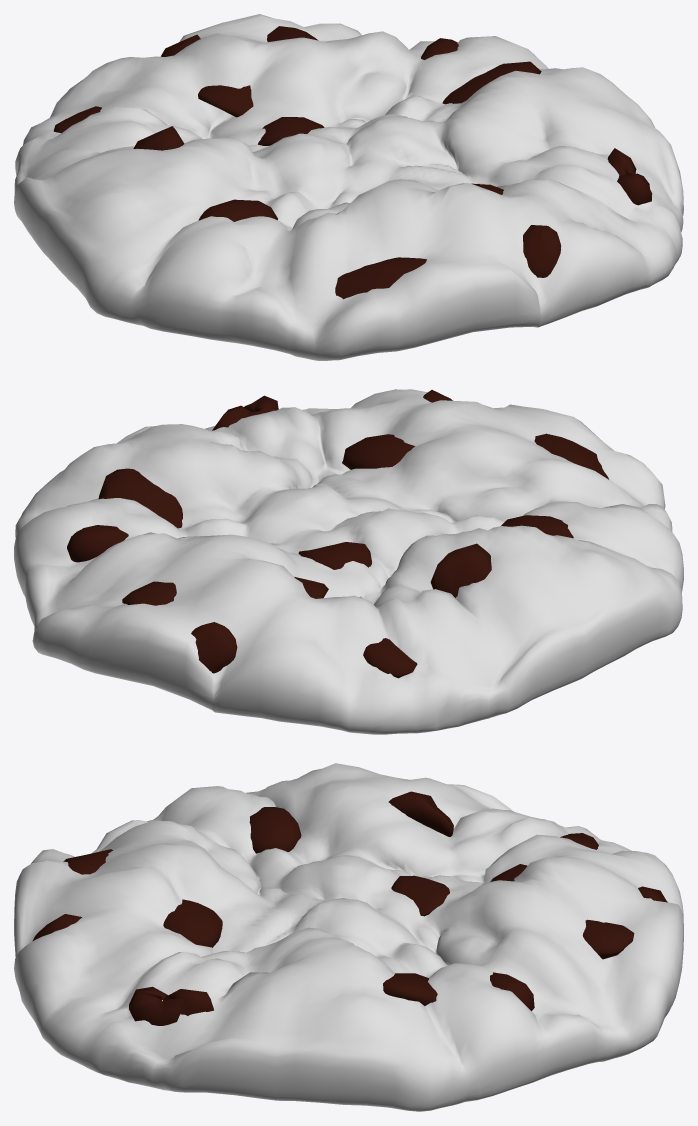
File: cookie.gltf
3 views of the same model, one above another, from view 1: azimuth 30°, elevation 25°; view 2: azimuth 150°, elevation 25°; view 3: azimuth 270°, elevation 25° (orthographic).
Parts seen in each view (by area): view 1: Cookie, chip.003, chip.009, chip.010, chip.011, chip.001, chip.006, chip.005, chip.013; view 2: Cookie, chip.001, chip.013, chip.007, chip.004, chip.008, chip.002, chip.005, chip.003, chip.012, chip.010, chip.006; view 3: Cookie, chip.010, chip.006, chip.007, chip.013, chip.005, chip.012, chip.001, chip.008, chip.003.
Part boxes in pixels (bbox=[...]): Cookie: bbox=[14, 14, 683, 360]; chip.003: bbox=[335, 257, 426, 299]; chip.009: bbox=[523, 225, 561, 277]; chip.010: bbox=[607, 148, 652, 205]; chip.011: bbox=[198, 85, 253, 117]; chip.001: bbox=[442, 61, 541, 104]; chip.006: bbox=[198, 199, 277, 221]; chip.005: bbox=[258, 117, 324, 145]; chip.013: bbox=[133, 126, 184, 150]; Cookie: bbox=[14, 389, 683, 734]; chip.001: bbox=[98, 468, 182, 528]; chip.013: bbox=[430, 543, 491, 598]; chip.007: bbox=[342, 434, 415, 469]; chip.004: bbox=[191, 622, 237, 673]; chip.008: bbox=[67, 525, 128, 562]; chip.002: bbox=[363, 638, 417, 678]; chip.005: bbox=[298, 542, 371, 569]; chip.003: bbox=[534, 433, 609, 479]; chip.012: bbox=[122, 581, 176, 605]; chip.010: bbox=[212, 395, 278, 430]; chip.006: bbox=[501, 515, 573, 538]; Cookie: bbox=[14, 763, 683, 1111]; chip.010: bbox=[129, 986, 214, 1025]; chip.006: bbox=[249, 807, 301, 853]; chip.007: bbox=[163, 899, 222, 947]; chip.013: bbox=[388, 791, 453, 836]; chip.005: bbox=[391, 875, 449, 916]; chip.012: bbox=[582, 919, 634, 959]; chip.001: bbox=[383, 973, 437, 1005]; chip.008: bbox=[490, 972, 534, 1011]; chip.003: bbox=[63, 849, 112, 874].
Size of the model in its own units: 6.67 by 1.24 by 6.58.
